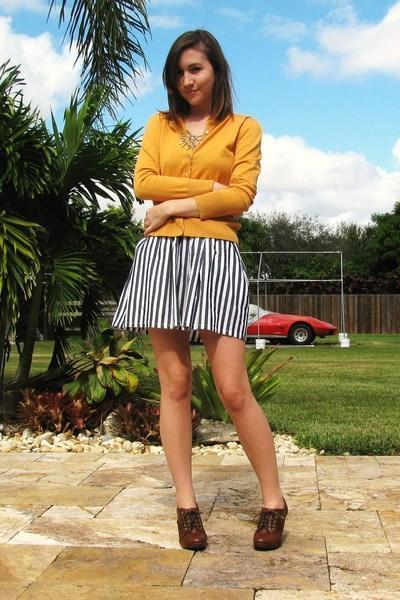shirt: (132, 111, 261, 242)
shoe: (177, 498, 287, 554)
skirt: (115, 215, 257, 348)
